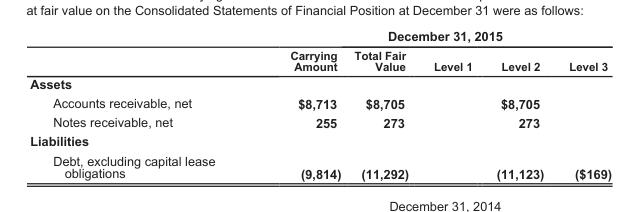table: (29, 28, 610, 180)
table column: (29, 28, 251, 180), (251, 28, 346, 180), (346, 28, 420, 180), (483, 28, 555, 180), (420, 28, 483, 180), (555, 28, 610, 180)
table column header: (29, 28, 610, 74)
table projected row header: (29, 74, 610, 93), (29, 131, 610, 150)
table row: (29, 150, 610, 180), (29, 45, 610, 74), (29, 74, 610, 93), (29, 93, 610, 112), (29, 112, 610, 131), (29, 131, 610, 150), (29, 28, 610, 45)
table spanning cell: (251, 28, 610, 45)
